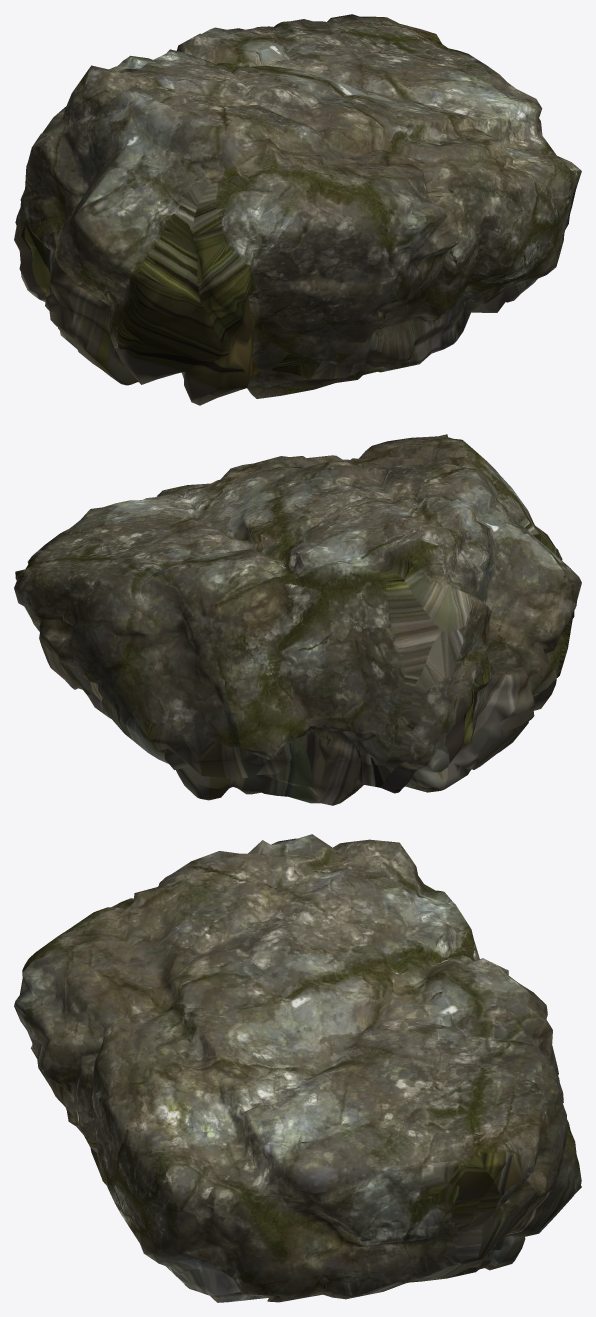
Rendered from Rock - Alien Rock 02-nbQdvqDd.glb.
The picture shows the model from 3 angles, top to bottom: view 1: azimuth 30°, elevation 25°; view 2: azimuth 150°, elevation 25°; view 3: azimuth 270°, elevation 25°; orthographic projection. The views are drawn at different scales.
Visible parts, largest first — view 1: Rock_02(Clone); view 2: Rock_02(Clone); view 3: Rock_02(Clone).
Boxes of the visible parts, left/top/right/bottom form: Rock_02(Clone): left=14, top=14, right=581, bottom=405; Rock_02(Clone): left=14, top=434, right=581, bottom=805; Rock_02(Clone): left=14, top=834, right=581, bottom=1302.
Size of the model in its own units: 5.22 by 3.03 by 4.69.
Materials: 1 (1 with a texture image).
